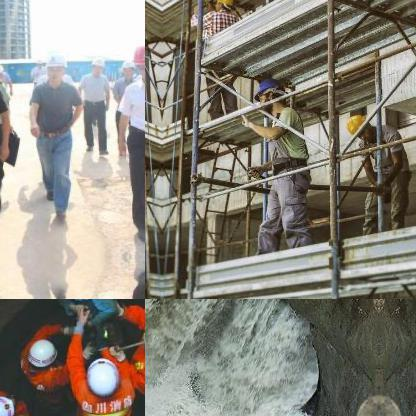Helmet: (82, 354, 122, 396), (248, 74, 286, 112), (23, 336, 57, 366), (43, 47, 67, 81), (344, 112, 373, 140), (133, 39, 144, 83), (0, 394, 19, 415), (88, 53, 106, 75), (119, 56, 135, 80), (210, 0, 232, 13), (0, 60, 6, 77)
